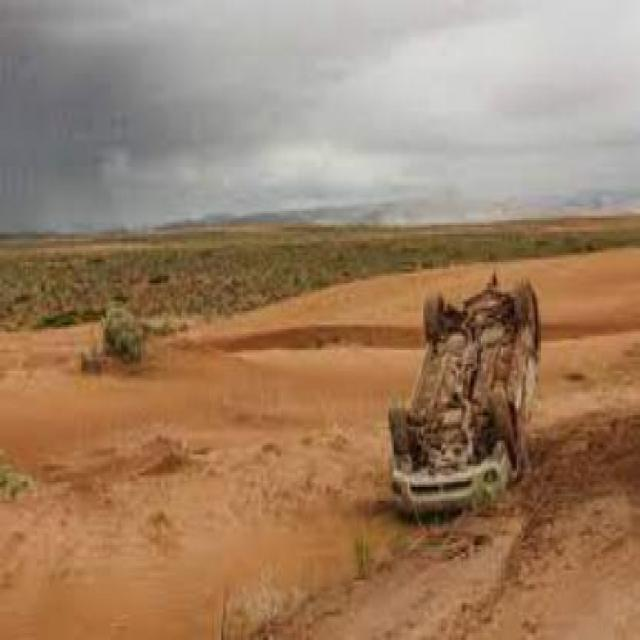accident: (383, 258, 548, 510)
